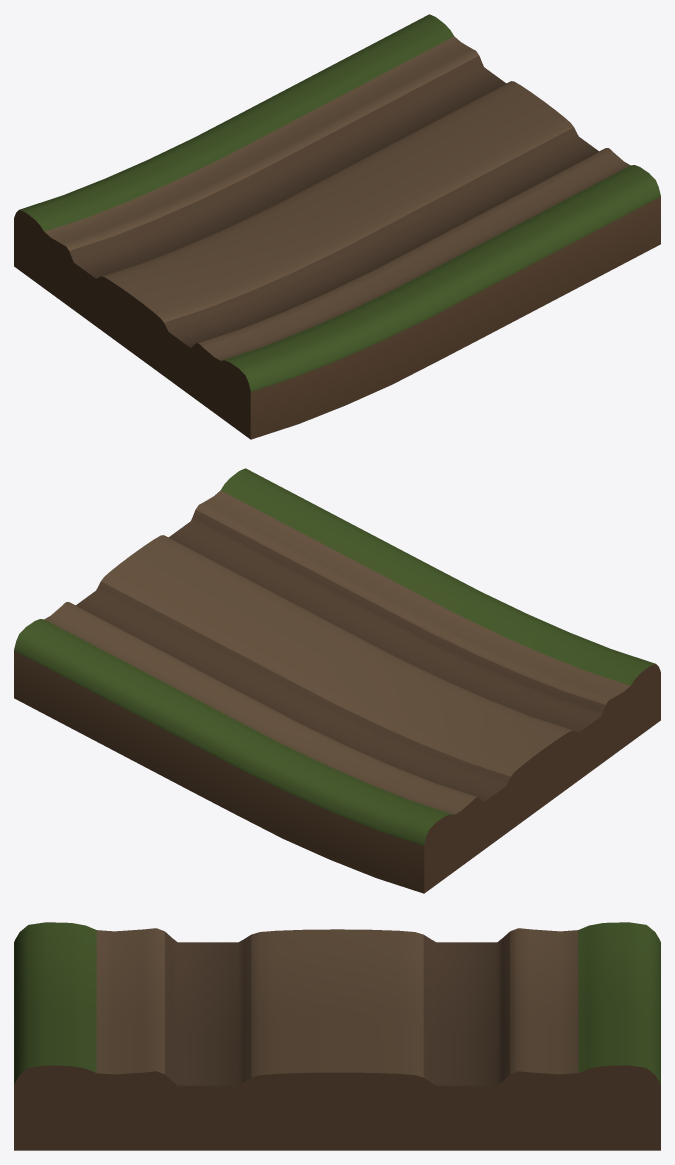
3 views of the same model, one above another, from view 1: azimuth 30°, elevation 25°; view 2: azimuth 150°, elevation 25°; view 3: azimuth 270°, elevation 25° (orthographic). The views are drawn at different scales.
Parts seen in each view (by area): view 1: d1o; view 2: d1o; view 3: d1o.
Part boxes in pixels (x1,y1,x2,y2): d1o: (14, 14, 660, 439); d1o: (14, 468, 660, 893); d1o: (14, 922, 660, 1150).
Bounding box in the file's own units: 9 × 3.31 × 9.
